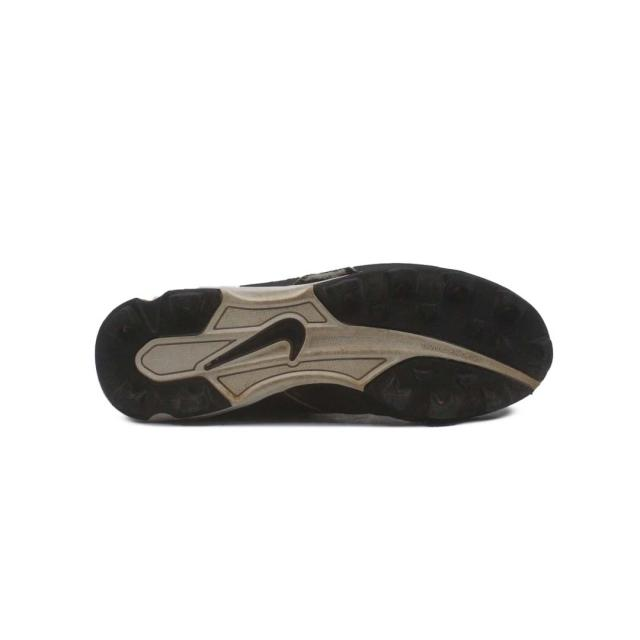outersole: (95, 266, 554, 422)
